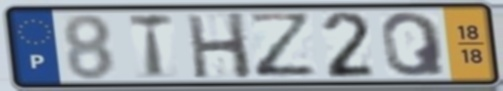2: (318, 10, 377, 81)
8: (59, 11, 118, 83)
H: (183, 10, 256, 81)
Q: (378, 10, 451, 79)
T: (126, 11, 176, 81)
Z: (243, 11, 321, 80)
